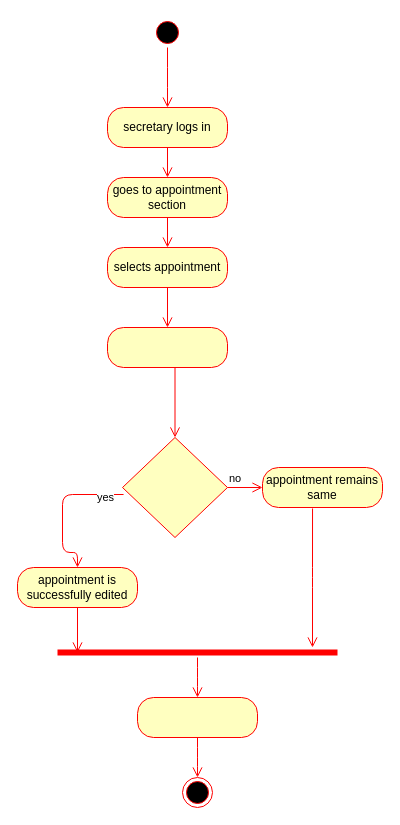
Image size: 400x825. Some labels were removed from this diagram. Here are the shapes that lost their labels. From the top down, the centre of each, then its label:
At point 167,347: "edits appointment".
At point 175,487: "save changes".
At point 197,717: "Back to appointments section".
